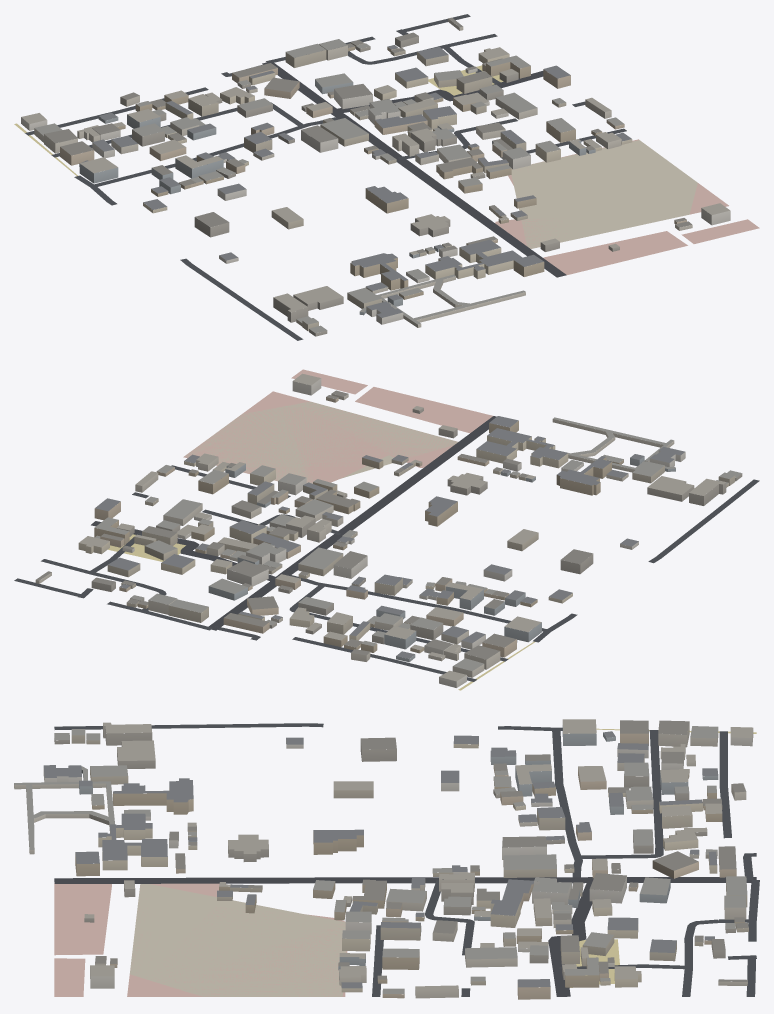
The picture shows the model from 3 angles, top to bottom: view 1: azimuth 30°, elevation 25°; view 2: azimuth 150°, elevation 25°; view 3: azimuth 270°, elevation 25°; orthographic projection. The views are drawn at different scales.
Parts seen in each view (by area): view 1: buildings_walls, buildings_roofs, landuse, roads; view 2: buildings_roofs, buildings_walls, landuse, roads; view 3: buildings_roofs, buildings_walls, landuse, roads.
Part boxes in pixels (box(x1,y1,x2,y2)): buildings_walls: box(21, 18, 730, 336); buildings_roofs: box(21, 17, 729, 333); landuse: box(14, 65, 759, 274); roads: box(25, 14, 626, 340); buildings_roofs: box(36, 373, 741, 681); buildings_walls: box(35, 378, 742, 687); landuse: box(108, 369, 534, 690); roads: box(14, 416, 759, 681); buildings_roofs: box(14, 719, 753, 993); buildings_walls: box(14, 723, 753, 999); landuse: box(54, 728, 756, 996); roads: box(54, 723, 759, 996).
Bounding box in the file's own units: 466 × 9.59 × 531.
